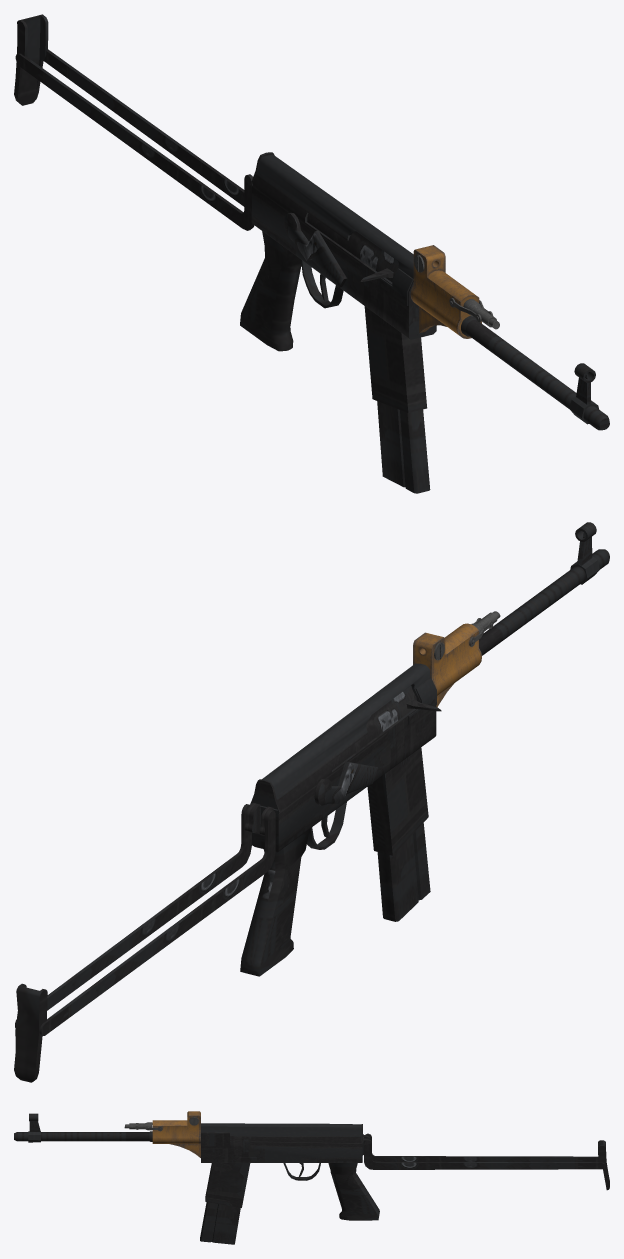
The model's file is 79式冲锋枪.FBX.
3 renders of one model, top to bottom at view 1: azimuth 30°, elevation 25°; view 2: azimuth 150°, elevation 25°; view 3: azimuth 270°, elevation 25°, orthographic. The views are drawn at different scales.
Visible parts, largest first — view 1: 79式冲锋枪; view 2: 79式冲锋枪; view 3: 79式冲锋枪.
Part boxes in pixels (x1,y1,x2,y2): 79式冲锋枪: (14, 14, 609, 493); 79式冲锋枪: (14, 522, 609, 1082); 79式冲锋枪: (14, 1111, 609, 1244).
Bounding box in the file's own units: 0.06 × 0.2567 × 1.07.
